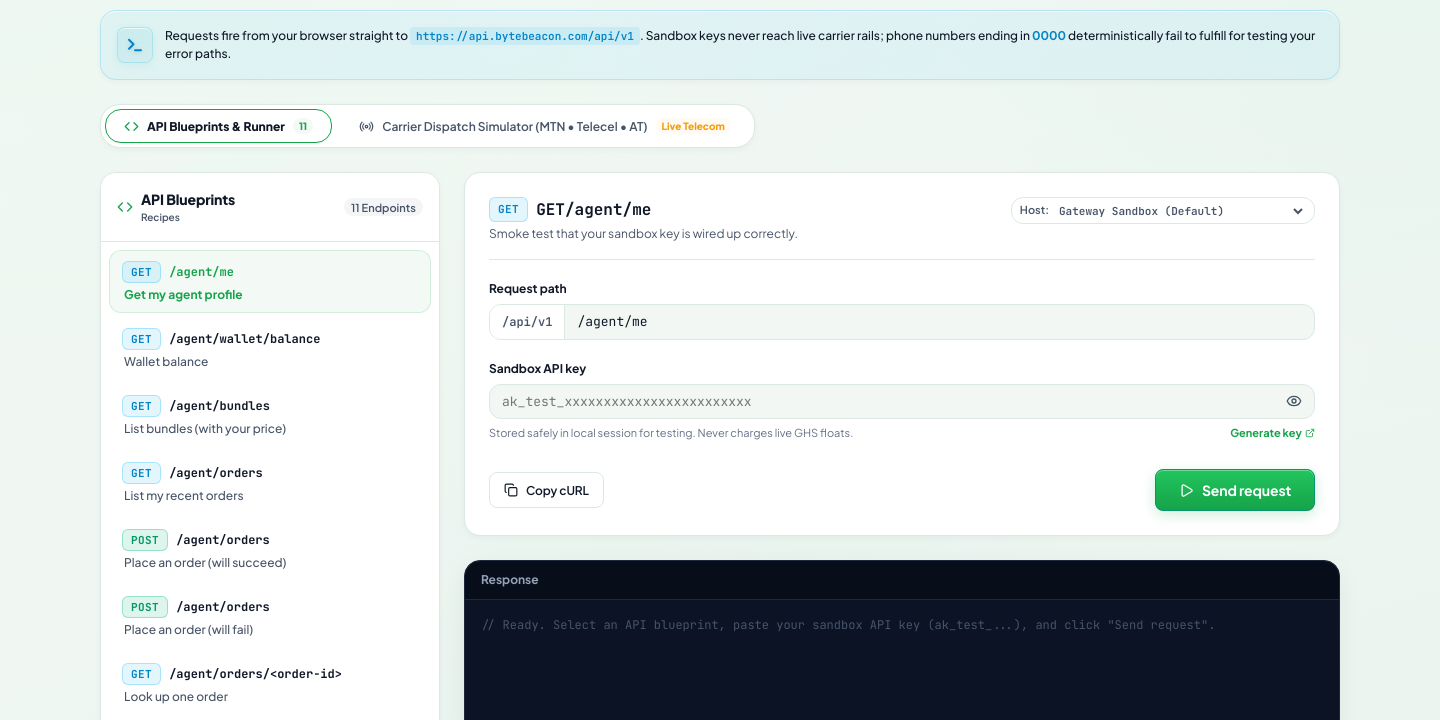
AgentSandboxPage — Sandbox Playground Spec & Interactive Runner › 8. handles deterministic failure response when testing error paths
// Select failing recipe
Click the text "Place an order (will fail)": [188, 630] box [122,622,253,637]
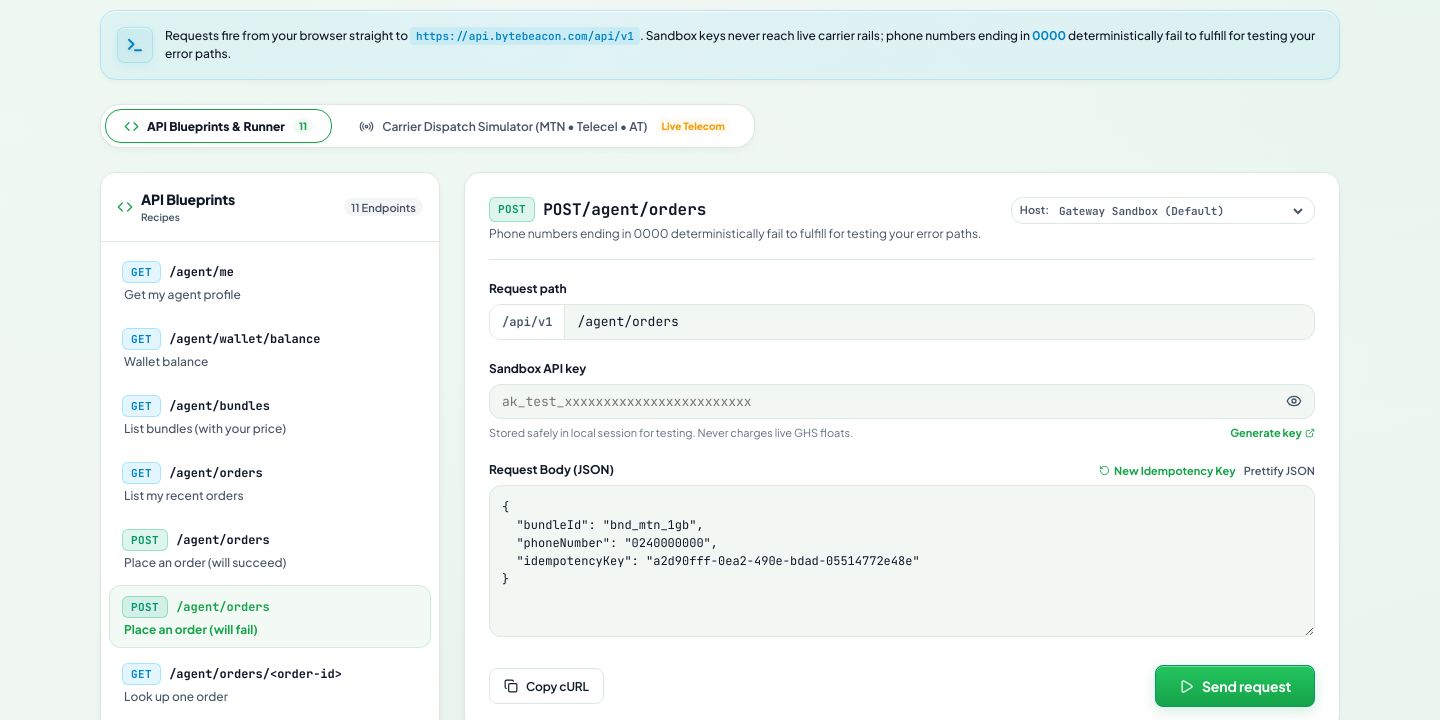
In the password field with placeholder "ak_test_xxxxxxxxxxxxxxxxxxxxxxxx": [886, 401] box [490,385,1282,418], type "ak_test_demo_secret_key_123"
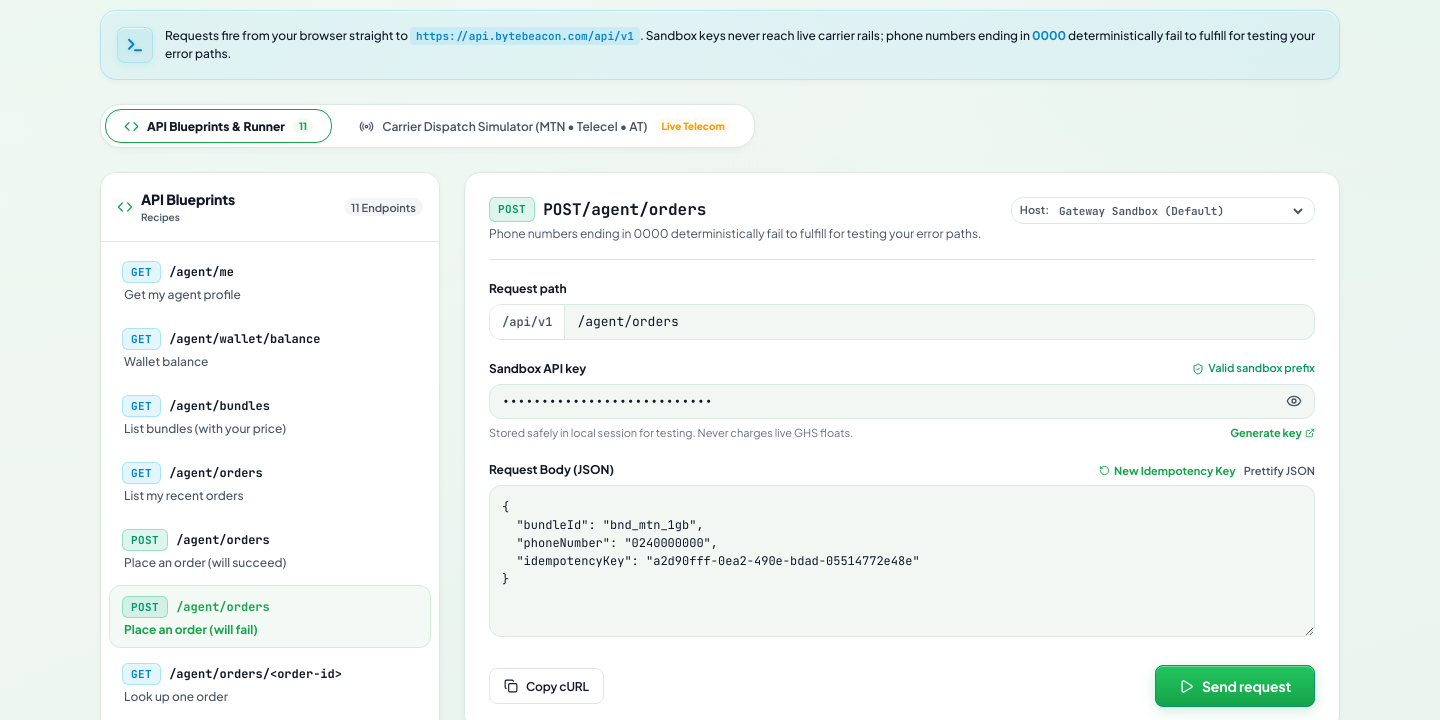
Click the button "Send request": [1235, 686] box [1155,665,1315,707]
(page scrolled)
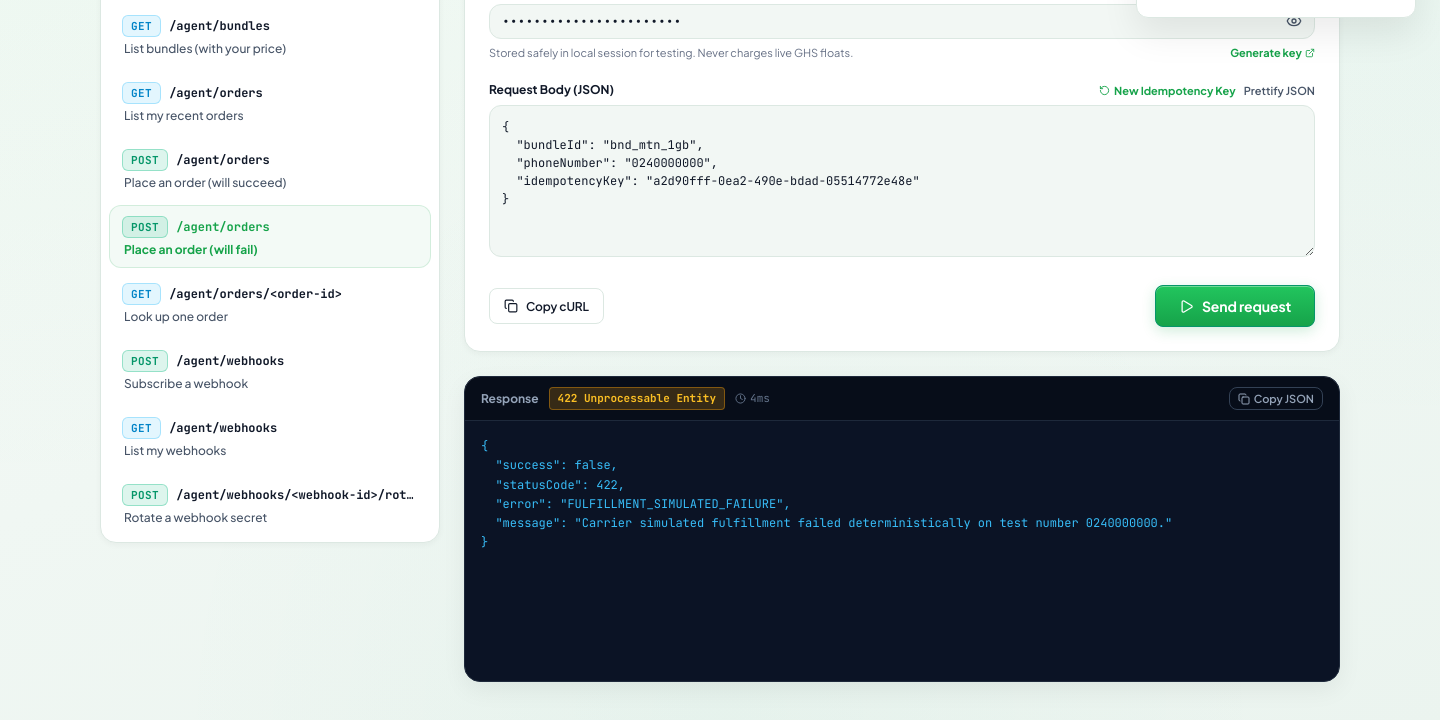
Expected: the text "Carrier simulated fulfillment failed deterministically" is shown, [481,438,1172,550]
